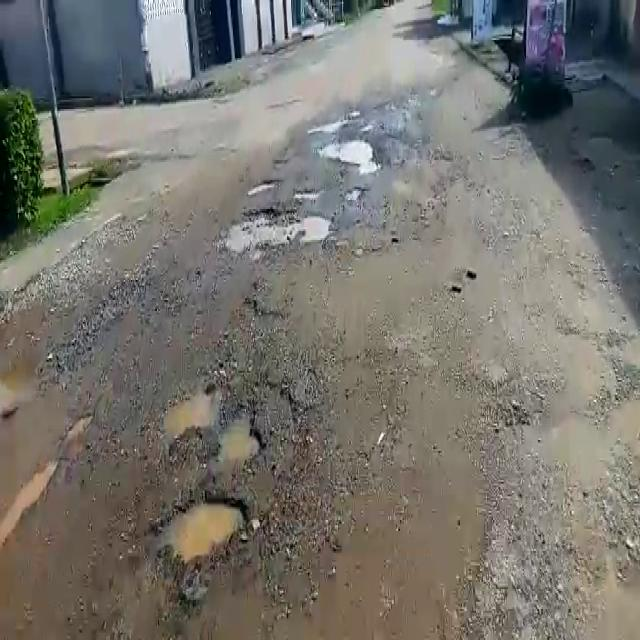Pothole: (155, 383, 264, 466), (156, 492, 252, 566), (210, 205, 326, 257), (317, 130, 382, 170), (245, 176, 280, 194), (295, 185, 325, 200)
